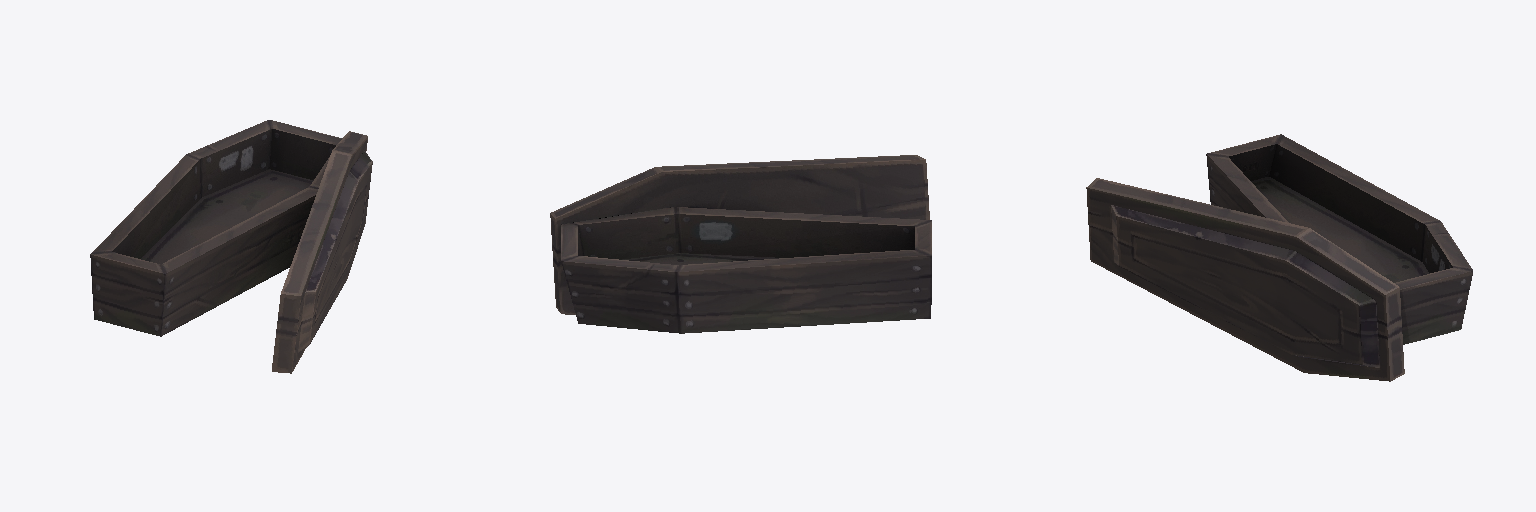
The picture shows the model from 3 angles: view 1: azimuth 30°, elevation 25°; view 2: azimuth 150°, elevation 25°; view 3: azimuth 270°, elevation 25°; orthographic projection.
Parts seen in each view (by area): view 1: Object001_Object001_mtl_0_Object001_Object001_mtl_0_Object001_mt; view 2: Object001_Object001_mtl_0_Object001_Object001_mtl_0_Object001_mt; view 3: Object001_Object001_mtl_0_Object001_Object001_mtl_0_Object001_mt.
Boxes of the visible parts, x1,y1,x2,y2 form: Object001_Object001_mtl_0_Object001_Object001_mtl_0_Object001_mt: [90, 120, 372, 373]; Object001_Object001_mtl_0_Object001_Object001_mtl_0_Object001_mt: [550, 155, 931, 333]; Object001_Object001_mtl_0_Object001_Object001_mtl_0_Object001_mt: [1086, 134, 1472, 381].
Bounding box in the file's own units: 1.95 × 0.8212 × 1.98.
1 materials, 1 textured.